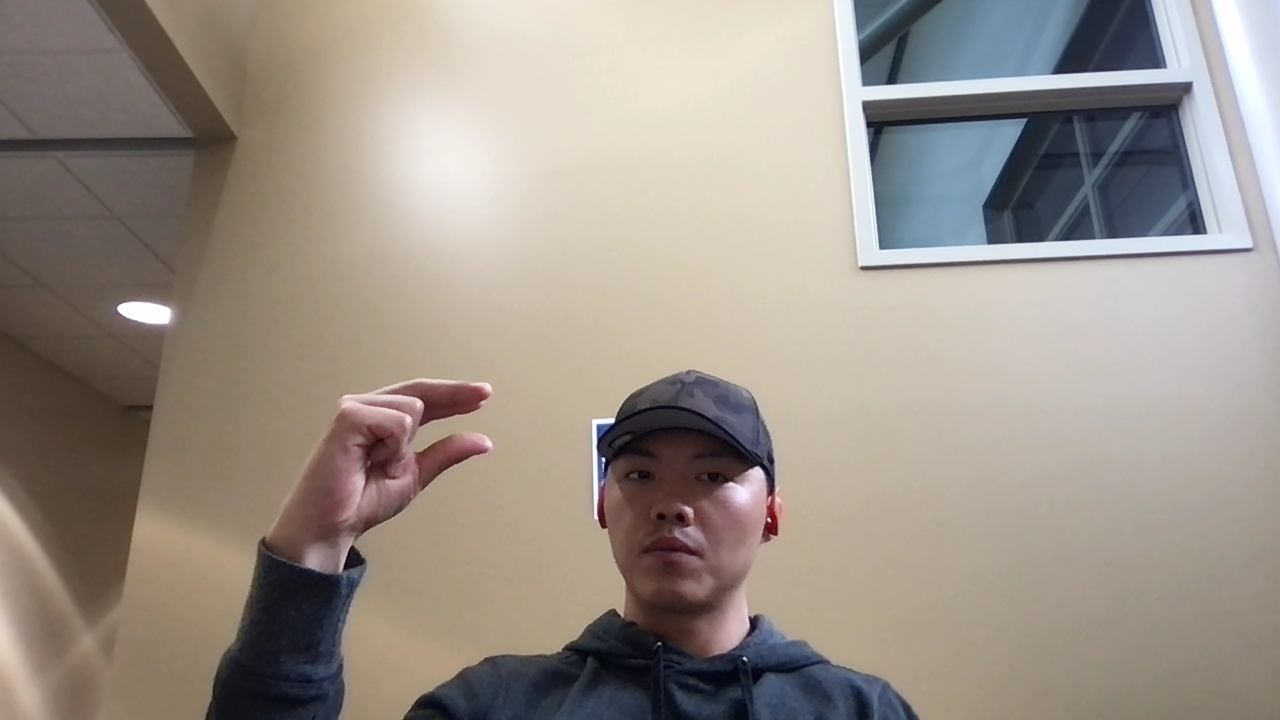No: (269, 371, 500, 555)
